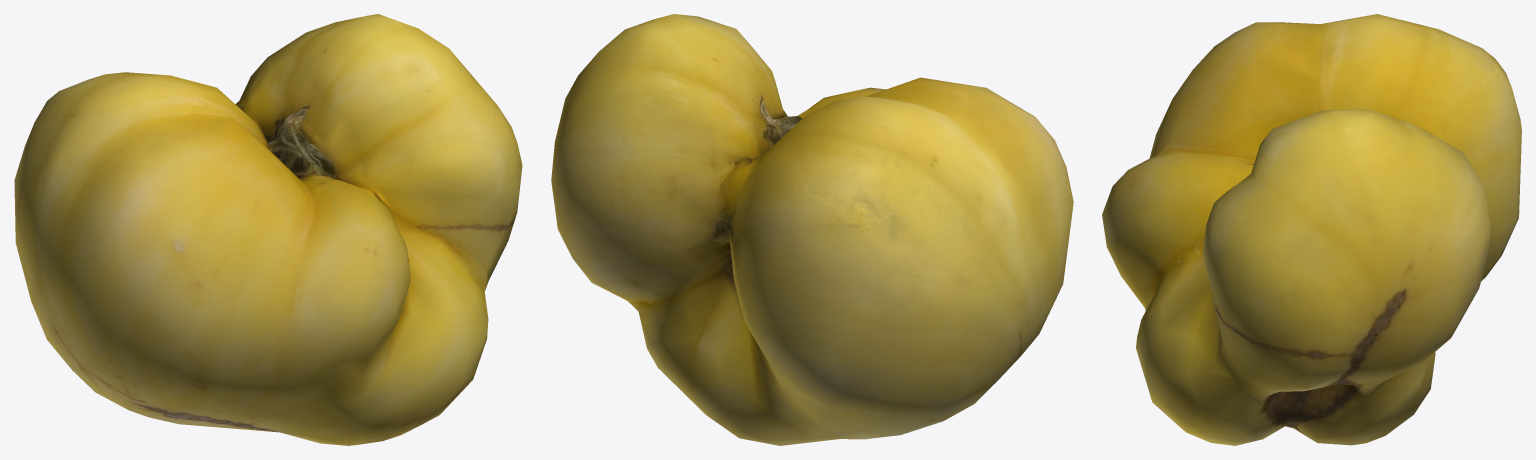
Rendered from 17_heirloom_tomato.glb.
3 renders of one model, left to right at view 1: azimuth 30°, elevation 25°; view 2: azimuth 150°, elevation 25°; view 3: azimuth 270°, elevation 25°, orthographic. The views are drawn at different scales.
Parts seen in each view (by area): view 1: 17_heirloom_tomato; view 2: 17_heirloom_tomato; view 3: 17_heirloom_tomato.
Boxes of the visible parts, x1=… form: 17_heirloom_tomato: x1=14, y1=14, x2=522, y2=445; 17_heirloom_tomato: x1=551, y1=14, x2=1073, y2=445; 17_heirloom_tomato: x1=1102, y1=14, x2=1521, y2=445.
Bounding box in the file's own units: 0.9978 × 0.78 × 0.8096.
Materials: 1 (1 with a texture image).
